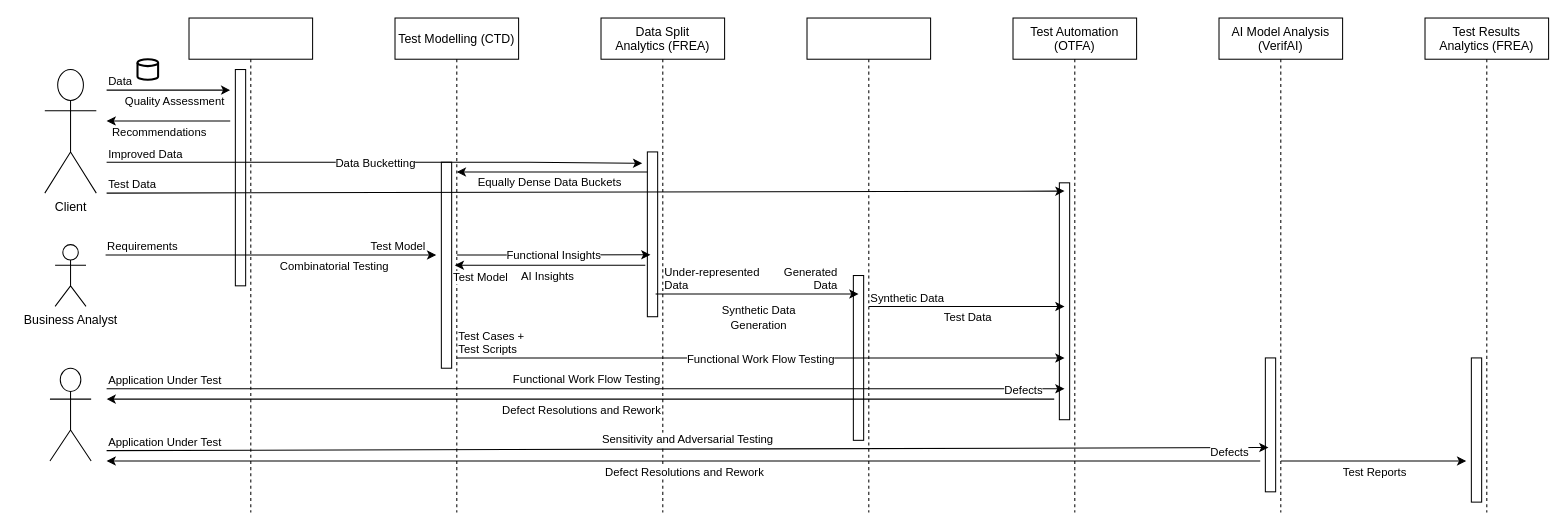
This 1567x530 diagram has some shape labels left out. Each missing label, with the centre of its shape:
"Data Generation (LAMBADA)" belongs at (x=868, y=264).
"Data Quality Assessment (DART)" belongs at (x=250, y=264).
"Development Team" belongs at (x=70, y=414).
